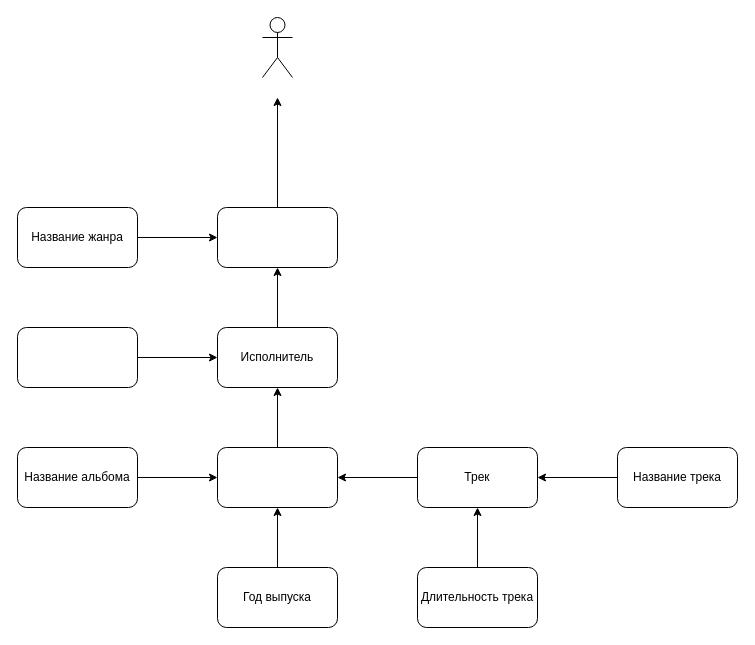
Some shapes in this 755 by 645 pixel diagram are drawn without their labels. Here are the shapes that lost their labels. From the top down, the box of each, then its label:
(262, 16, 292, 78): Приложение
(216, 206, 338, 268): Жанр
(16, 326, 138, 388): Псевдоним исполнителя
(216, 446, 338, 508): Альбом
